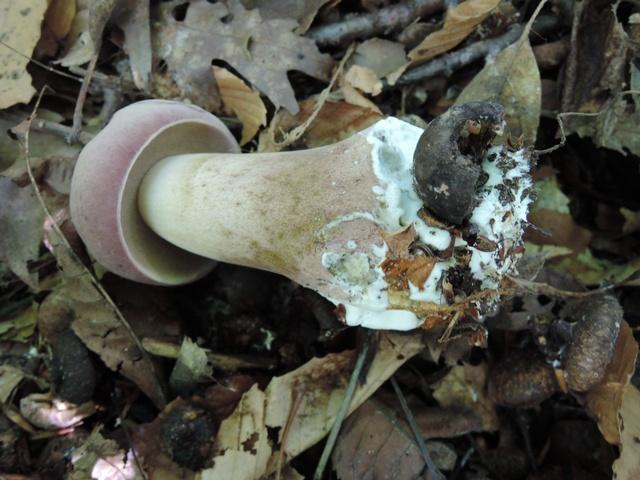poisonous_mushroom: (71, 80, 530, 354), (410, 99, 507, 225), (533, 280, 640, 394)
